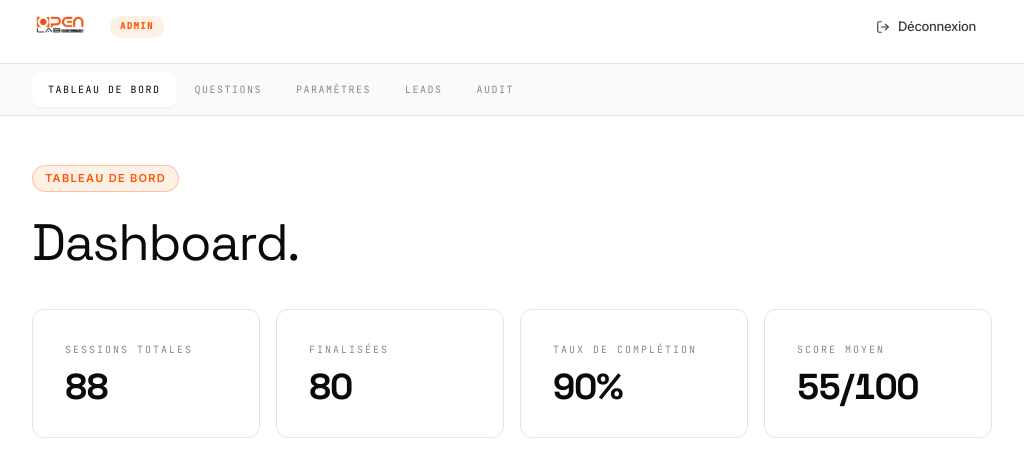
AdminDashboard — Leads tab › affiche le message vide sans leads
Expected: the text "88" is shown, [65,364,108,410]
Click the button "Leads".
click(424, 90)  # box [389,72,458,107]
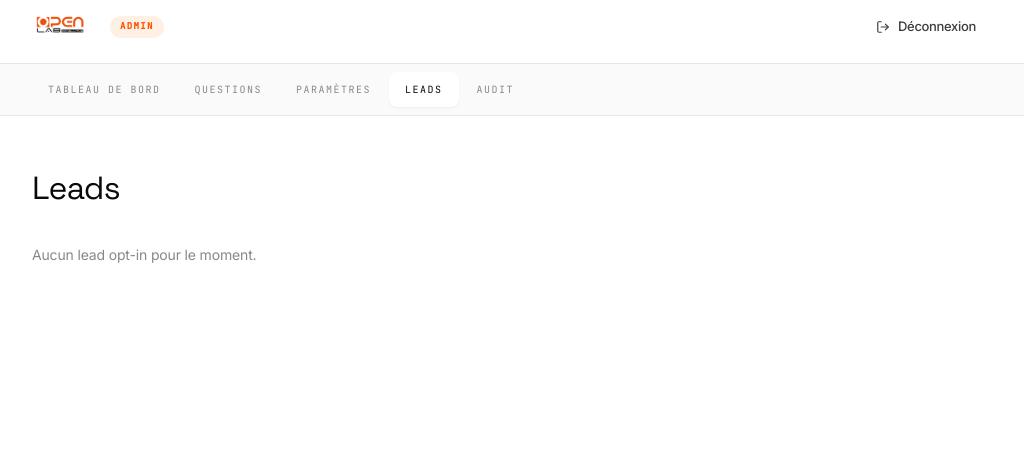
Now the text "Aucun lead opt-in pour le moment." is shown, box [32,246,256,263]
